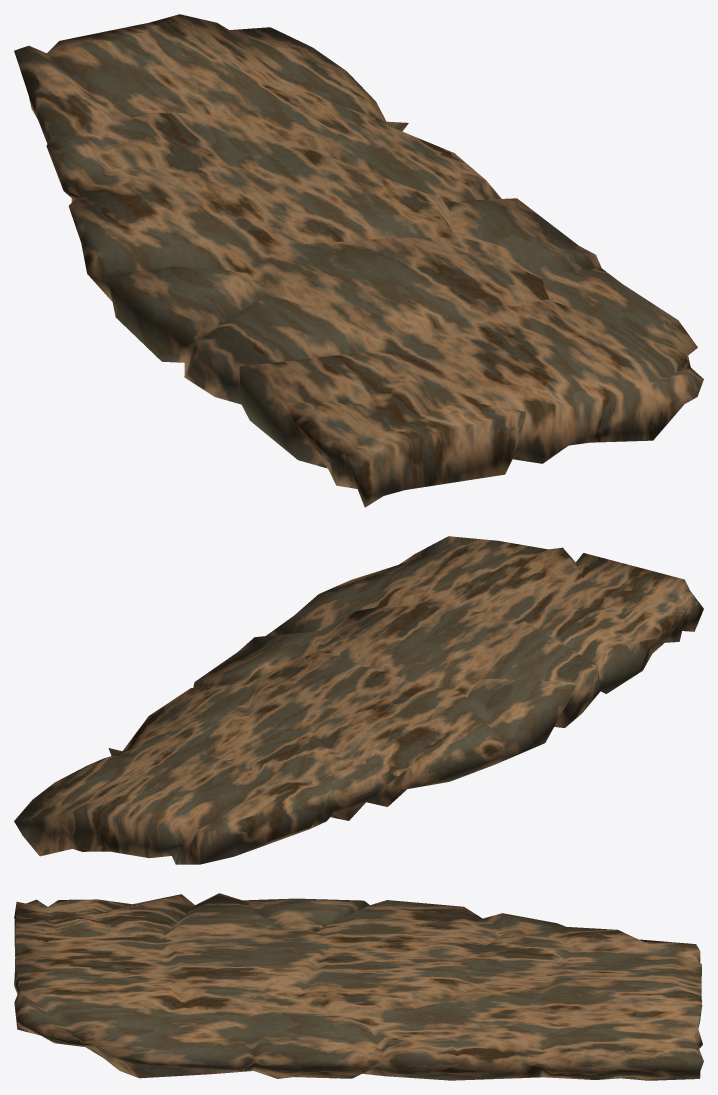
File: Barkbark.fbx
3 views of the same model, one above another, from view 1: azimuth 30°, elevation 25°; view 2: azimuth 150°, elevation 25°; view 3: azimuth 270°, elevation 25° (orthographic). The views are drawn at different scales.
Visible parts, largest first — view 1: Barkbark_Low; view 2: Barkbark_Low; view 3: Barkbark_Low.
Boxes of the visible parts, <box> form: Barkbark_Low: <box>14,14,703,507</box>; Barkbark_Low: <box>14,536,703,864</box>; Barkbark_Low: <box>14,893,703,1080</box>.
Bounding box in the file's own units: 2.04 × 0.4371 × 4.17.
